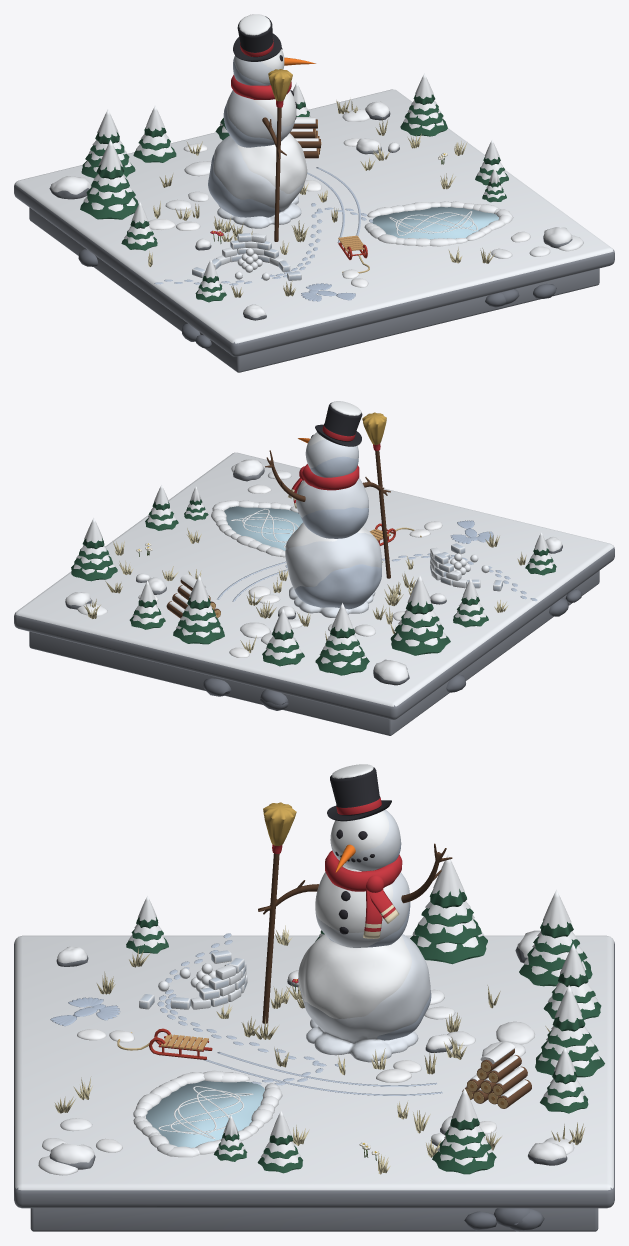
File: snowman.glb
3 renders of one model, top to bottom at view 1: azimuth 30°, elevation 25°; view 2: azimuth 150°, elevation 25°; view 3: azimuth 270°, elevation 25°, orthographic. The views are drawn at different scales.
Parts seen in each view (by area): view 1: Base, Blossoms, Firs, Grass, Rink, Trunk, Fort, Snow, Trails, LogPile, Rocks, Sledge; view 2: Base, Firs, Blossoms, Grass, Rink, Trunk, Snow, Fort, Trails, LogPile, Rocks; view 3: Base, Blossoms, Firs, Rink, Grass, Trunk, Trails, Fort, LogPile, Snow, Sledge, Rocks.
Boxes of the visible parts, <box> form: Base: <box>14,89,614,372</box>; Blossoms: <box>208,14,315,228</box>; Firs: <box>80,73,508,302</box>; Grass: <box>148,99,583,297</box>; Rink: <box>364,201,513,246</box>; Trunk: <box>233,16,292,241</box>; Fort: <box>192,233,301,280</box>; Snow: <box>50,101,572,317</box>; Trails: <box>154,167,372,301</box>; LogPile: <box>290,117,321,158</box>; Rocks: <box>49,111,572,320</box>; Sledge: <box>338,235,369,273</box>; Base: <box>14,452,614,735</box>; Firs: <box>71,485,556,675</box>; Blossoms: <box>285,401,381,617</box>; Grass: <box>77,464,526,657</box>; Rink: <box>211,500,302,557</box>; Trunk: <box>265,402,390,578</box>; Snow: <box>65,459,562,681</box>; Fort: <box>430,543,502,591</box>; Trails: <box>217,520,537,601</box>; LogPile: <box>166,574,220,618</box>; Rocks: <box>65,468,562,685</box>; Base: <box>14,935,614,1231</box>; Blossoms: <box>298,764,431,1062</box>; Firs: <box>126,854,604,1174</box>; Rink: <box>133,1070,282,1157</box>; Grass: <box>38,925,585,1175</box>; Trunk: <box>258,767,452,1023</box>; Trails: <box>50,933,442,1095</box>; Fort: <box>139,950,247,1009</box>; LogPile: <box>462,1042,531,1108</box>; Snow: <box>50,930,566,1163</box>; Sledge: <box>117,1028,212,1059</box>; Rocks: <box>49,946,567,1169</box>.
Bounding box in the file's own units: 72 × 41.95 × 72.
